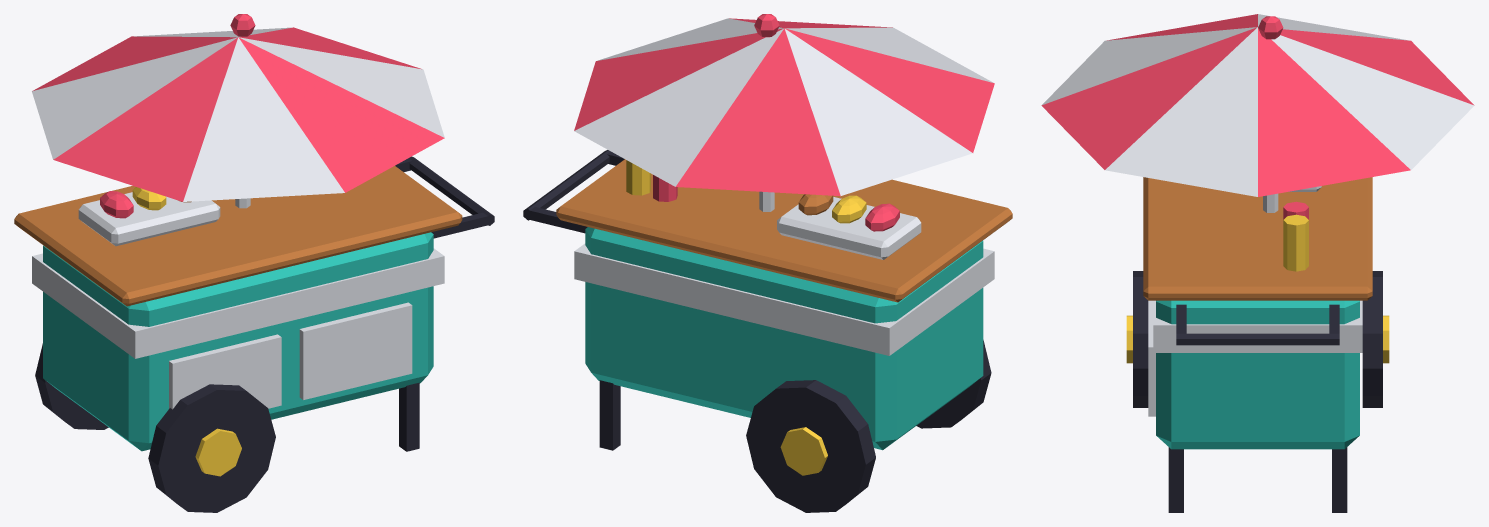
File: cart.glb
3 views of the same model, side by side, from view 1: azimuth 30°, elevation 25°; view 2: azimuth 150°, elevation 25°; view 3: azimuth 270°, elevation 25° (orthographic).
Parts seen in each view (by area): view 1: Cart; view 2: Cart; view 3: Cart.
Part boxes in pixels (<box>): Cart: <box>14,14,494,512</box>; Cart: <box>523,14,1012,512</box>; Cart: <box>1041,14,1474,512</box>.
Size of the model in its own units: 1.84 by 1.88 by 1.7.
